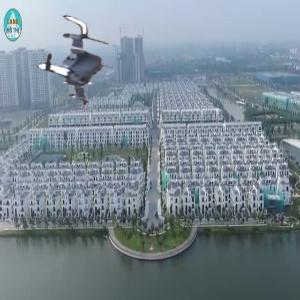drone: (28, 16, 121, 109)
